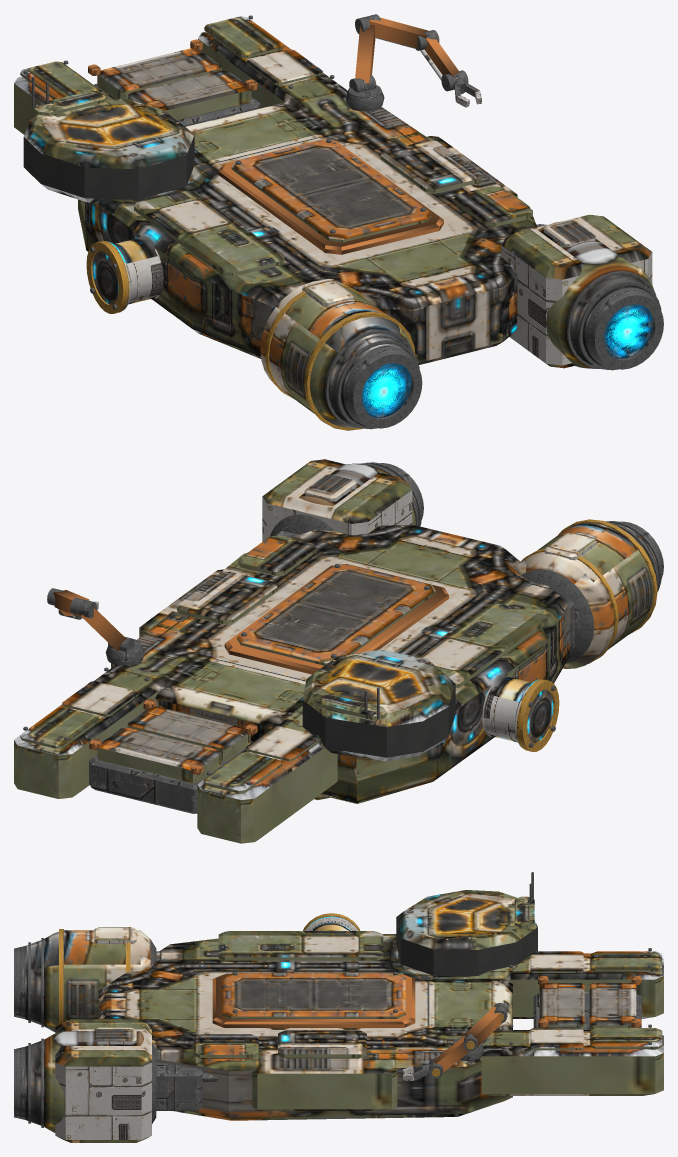
The model's file is second-wind.glb.
3 renders of one model, top to bottom at view 1: azimuth 30°, elevation 25°; view 2: azimuth 150°, elevation 25°; view 3: azimuth 270°, elevation 25°, orthographic. The views are drawn at different scales.
Parts seen in each view (by area): view 1: hull / Second Wind / painted hull and fittings, hull / Ventral / Second Wind; view 2: hull / Second Wind / painted hull and fittings, hull / Ventral / Second Wind; view 3: hull / Second Wind / painted hull and fittings, hull / Ventral / Second Wind.
Boxes of the visible parts, <box> form: hull / Second Wind / painted hull and fittings: <box>14,14,663,430</box>; hull / Ventral / Second Wind: <box>21,34,574,427</box>; hull / Second Wind / painted hull and fittings: <box>14,459,663,843</box>; hull / Ventral / Second Wind: <box>25,556,643,840</box>; hull / Second Wind / painted hull and fittings: <box>14,872,663,1139</box>; hull / Ventral / Second Wind: <box>25,943,657,1142</box>.
Bounding box in the file's own units: 12.79 × 4.63 × 19.82.
2 materials, 2 textured.
